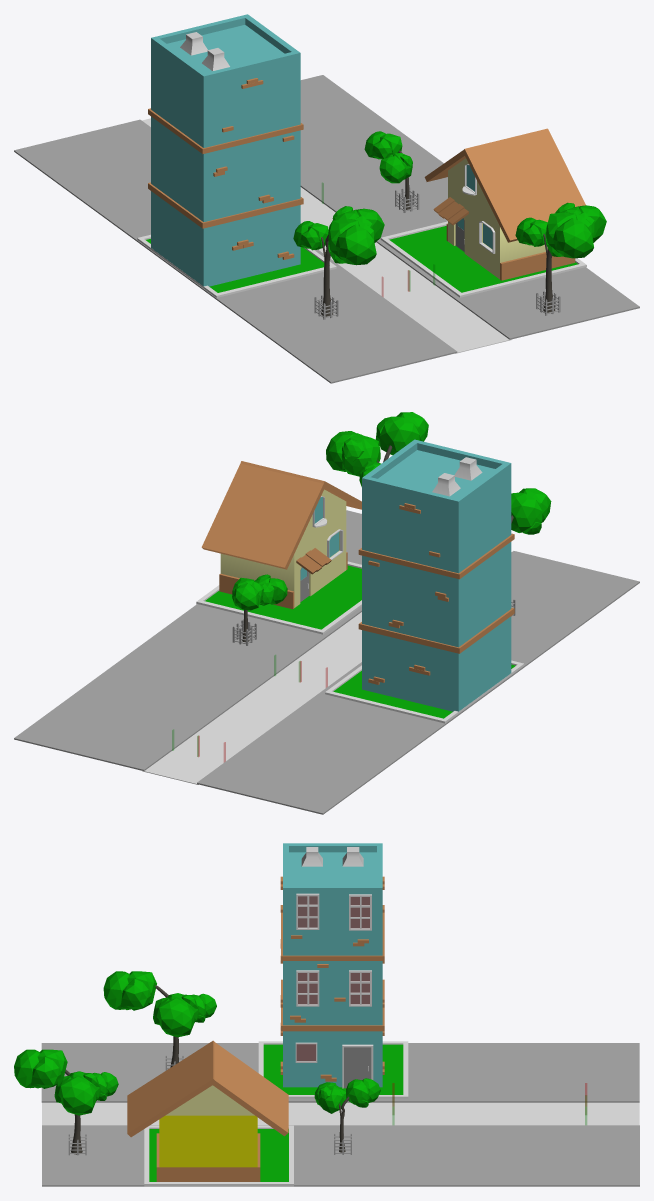
The model's file is Pizza_oyunu_yol_ve_binalar.fbx.
3 views of the same model, one above another, from view 1: azimuth 30°, elevation 25°; view 2: azimuth 150°, elevation 25°; view 3: azimuth 270°, elevation 25° (orthographic). The views are drawn at different scales.
Visible parts, largest first — view 1: bina, pCube54, pCube55, pCube62, pCube52, pCube69, pCube77, Icosphere (×3), Icosphere1 (×3), pCube76, Icosphere2 (×2); view 2: bina, pCube55, pCube54, pCube52, pCube61, pCube69, pCube77, Icosphere (×3), Icosphere1 (×2), pCube76, pCube62; view 3: pCube55, bina, pCube54, pCube52, pCube69, Icosphere (×3), pCube62, Icosphere1 (×3), pCube61, pCube77, pCube76, pCube8 (×4) (+1 smaller).
Part boxes in pixels (x1=…): bina: x1=148, y1=14, x2=303, y2=286; pCube54: x1=14, y1=119, x2=457, y2=383; pCube55: x1=300, y1=75, x2=639, y2=339; pCube62: x1=462, y1=128, x2=585, y2=242; pCube52: x1=142, y1=118, x2=511, y2=353; pCube69: x1=446, y1=158, x2=575, y2=280; pCube77: x1=380, y1=221, x2=586, y2=297; Icosphere (×3): x1=328, y1=131, x2=593, y2=265; Icosphere1 (×3): x1=328, y1=153, x2=606, y2=242; pCube76: x1=137, y1=234, x2=336, y2=297; Icosphere2 (×2): x1=293, y1=217, x2=547, y2=250; bina: x1=358, y1=439, x2=514, y2=711; pCube55: x1=14, y1=510, x2=361, y2=770; pCube54: x1=197, y1=551, x2=639, y2=814; pCube52: x1=142, y1=612, x2=361, y2=784; pCube61: x1=201, y1=463, x2=324, y2=569; pCube69: x1=219, y1=489, x2=347, y2=609; pCube77: x1=196, y1=561, x2=361, y2=634; Icosphere (×3): x1=232, y1=412, x2=551, y2=610; Icosphere1 (×2): x1=254, y1=431, x2=380, y2=605; pCube76: x1=325, y1=660, x2=524, y2=723; pCube62: x1=240, y1=461, x2=361, y2=509; pCube55: x1=42, y1=1125, x2=639, y2=1186; bina: x1=281, y1=843, x2=384, y2=1087; pCube54: x1=41, y1=1043, x2=639, y2=1102; pCube52: x1=42, y1=1102, x2=639, y2=1125; pCube69: x1=156, y1=1085, x2=260, y2=1181; Icosphere (×3): x1=14, y1=971, x2=380, y2=1107; pCube62: x1=127, y1=1040, x2=216, y2=1137; Icosphere1 (×3): x1=54, y1=993, x2=346, y2=1115; pCube61: x1=210, y1=1042, x2=288, y2=1136; pCube77: x1=144, y1=1125, x2=293, y2=1186; pCube76: x1=258, y1=1041, x2=408, y2=1098; pCube8 (×4): x1=296, y1=893, x2=371, y2=1006.
Bounding box in the file's own units: 13.55 × 9.22 × 25.
